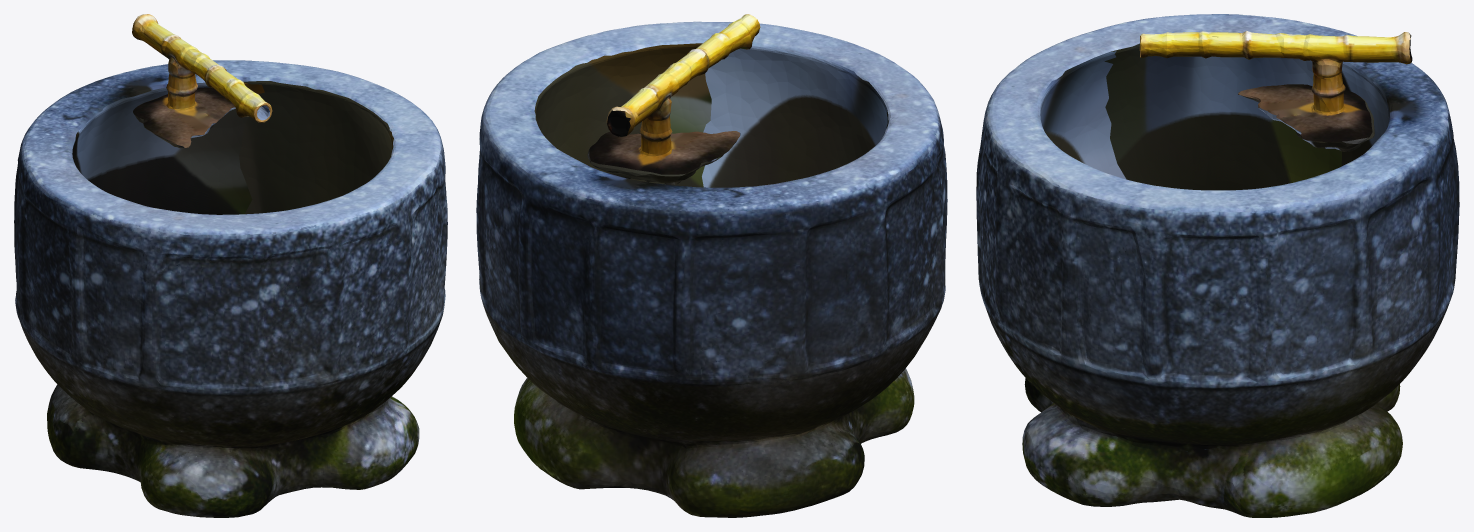
The model's file is traveler_env_coast_bayushi_pond_basin_00001_.glb.
The picture shows the model from 3 angles, left to right: view 1: azimuth 30°, elevation 25°; view 2: azimuth 150°, elevation 25°; view 3: azimuth 270°, elevation 25°; orthographic projection. The views are drawn at different scales.
Visible parts, largest first — view 1: temp_mesh.ply; view 2: temp_mesh.ply; view 3: temp_mesh.ply.
Part boxes in pixels (x1,y1,x2,y2): temp_mesh.ply: (14,14,447,517); temp_mesh.ply: (476,14,947,517); temp_mesh.ply: (976,14,1459,517).
Size of the model in its own units: 1.97 by 1.85 by 1.97.
1 material, 1 textured.
